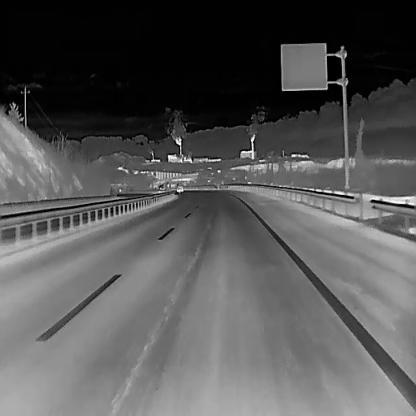car: (176, 182, 184, 193), (158, 185, 165, 194), (117, 187, 122, 192)
